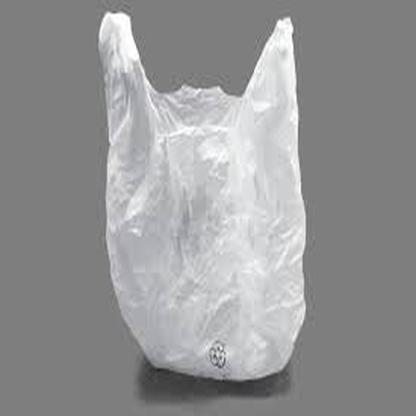plastic bag: (97, 13, 308, 382)
